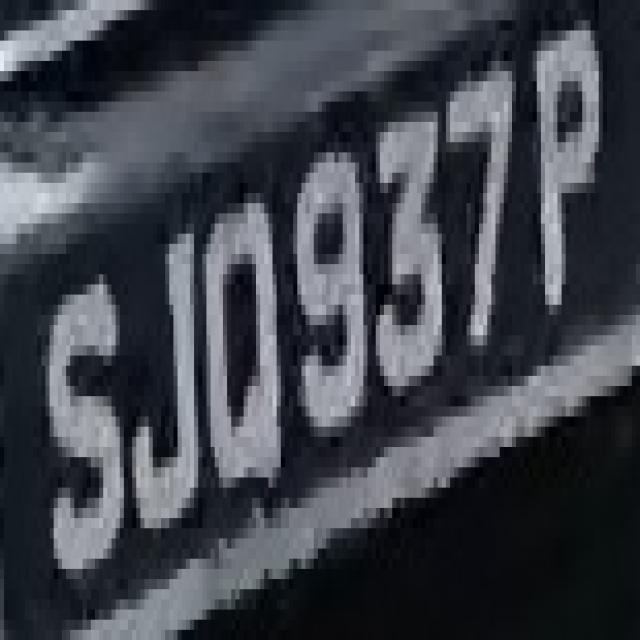3: (367, 101, 446, 406)
7: (434, 31, 520, 386)
9: (289, 142, 363, 457)
J: (124, 193, 202, 538)
P: (533, 0, 619, 335)
Q: (194, 183, 297, 508)
S: (33, 254, 124, 579)
